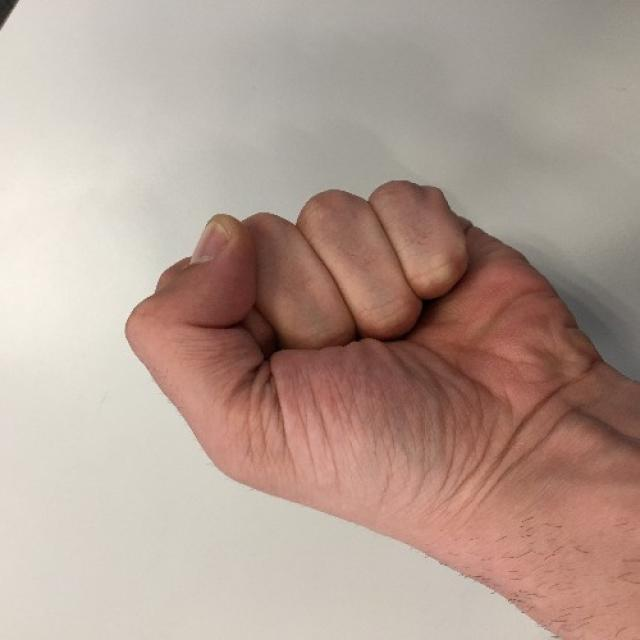fist: (112, 170, 606, 530)
